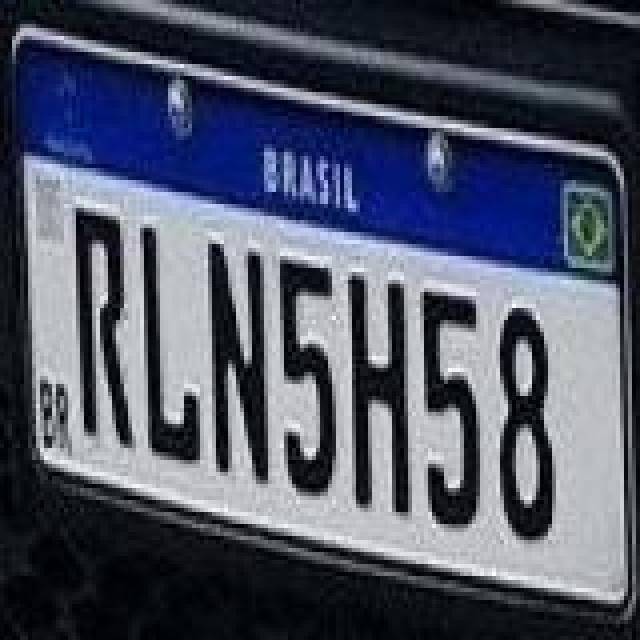5: (416, 286, 480, 530), (274, 254, 334, 498)
8: (498, 306, 558, 542)
H: (348, 270, 412, 522)
L: (136, 222, 200, 466)
N: (208, 238, 272, 490)
R: (72, 202, 136, 454)
